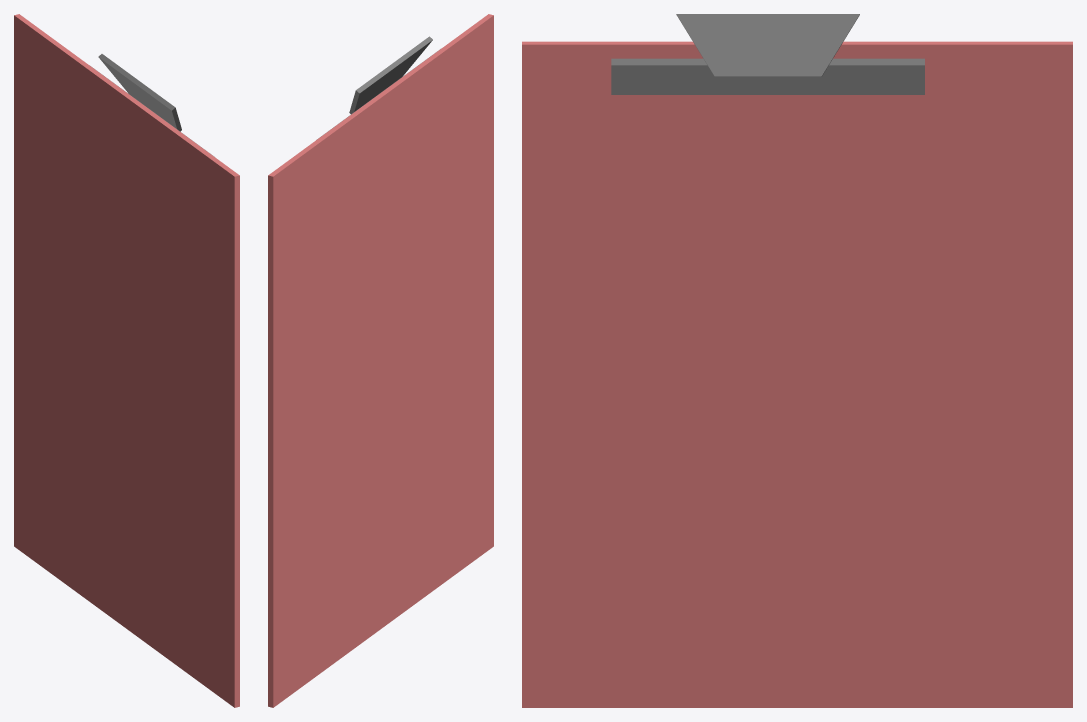
The model's file is CesarMiniGame List.fbx.
The picture shows the model from 3 angles, left to right: view 1: azimuth 30°, elevation 25°; view 2: azimuth 150°, elevation 25°; view 3: azimuth 270°, elevation 25°; orthographic projection. The views are drawn at different scales.
Parts seen in each view (by area): view 1: Tabla; view 2: Tabla; view 3: Tabla.
Part boxes in pixels (x1=…): Tabla: x1=14, y1=14, x2=239, y2=707; Tabla: x1=268, y1=14, x2=493, y2=707; Tabla: x1=522, y1=14, x2=1072, y2=707.
Size of the model in its own units: 37.49 by 772 by 557.
